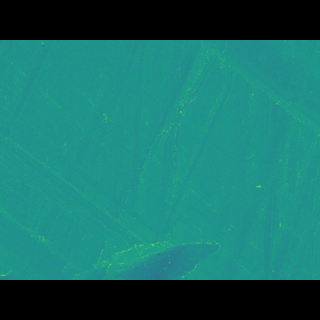Loch: (0, 121, 193, 222), (198, 71, 319, 140), (62, 219, 221, 250)
